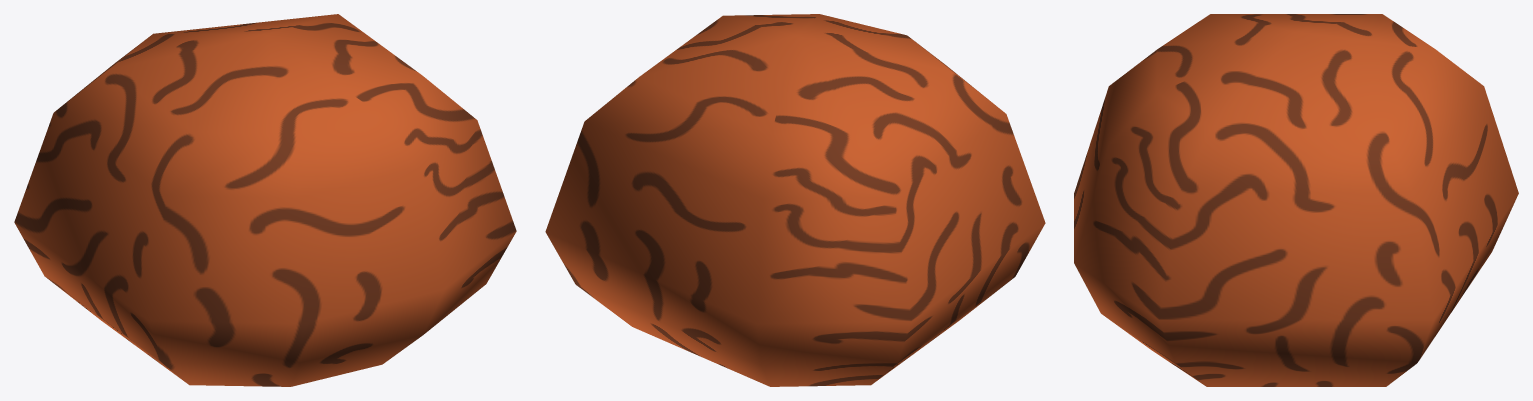
The model's file is Coral03_LP.fbx.
3 renders of one model, left to right at view 1: azimuth 30°, elevation 25°; view 2: azimuth 150°, elevation 25°; view 3: azimuth 270°, elevation 25°, orthographic. The views are drawn at different scales.
Visible parts, largest first — view 1: Coral03; view 2: Coral03; view 3: Coral03.
Boxes of the visible parts, x1=… form: Coral03: x1=14, y1=14, x2=516, y2=386; Coral03: x1=545, y1=14, x2=1045, y2=386; Coral03: x1=1074, y1=14, x2=1518, y2=386.
Size of the model in its own units: 1.9 by 1.62 by 1.95.
